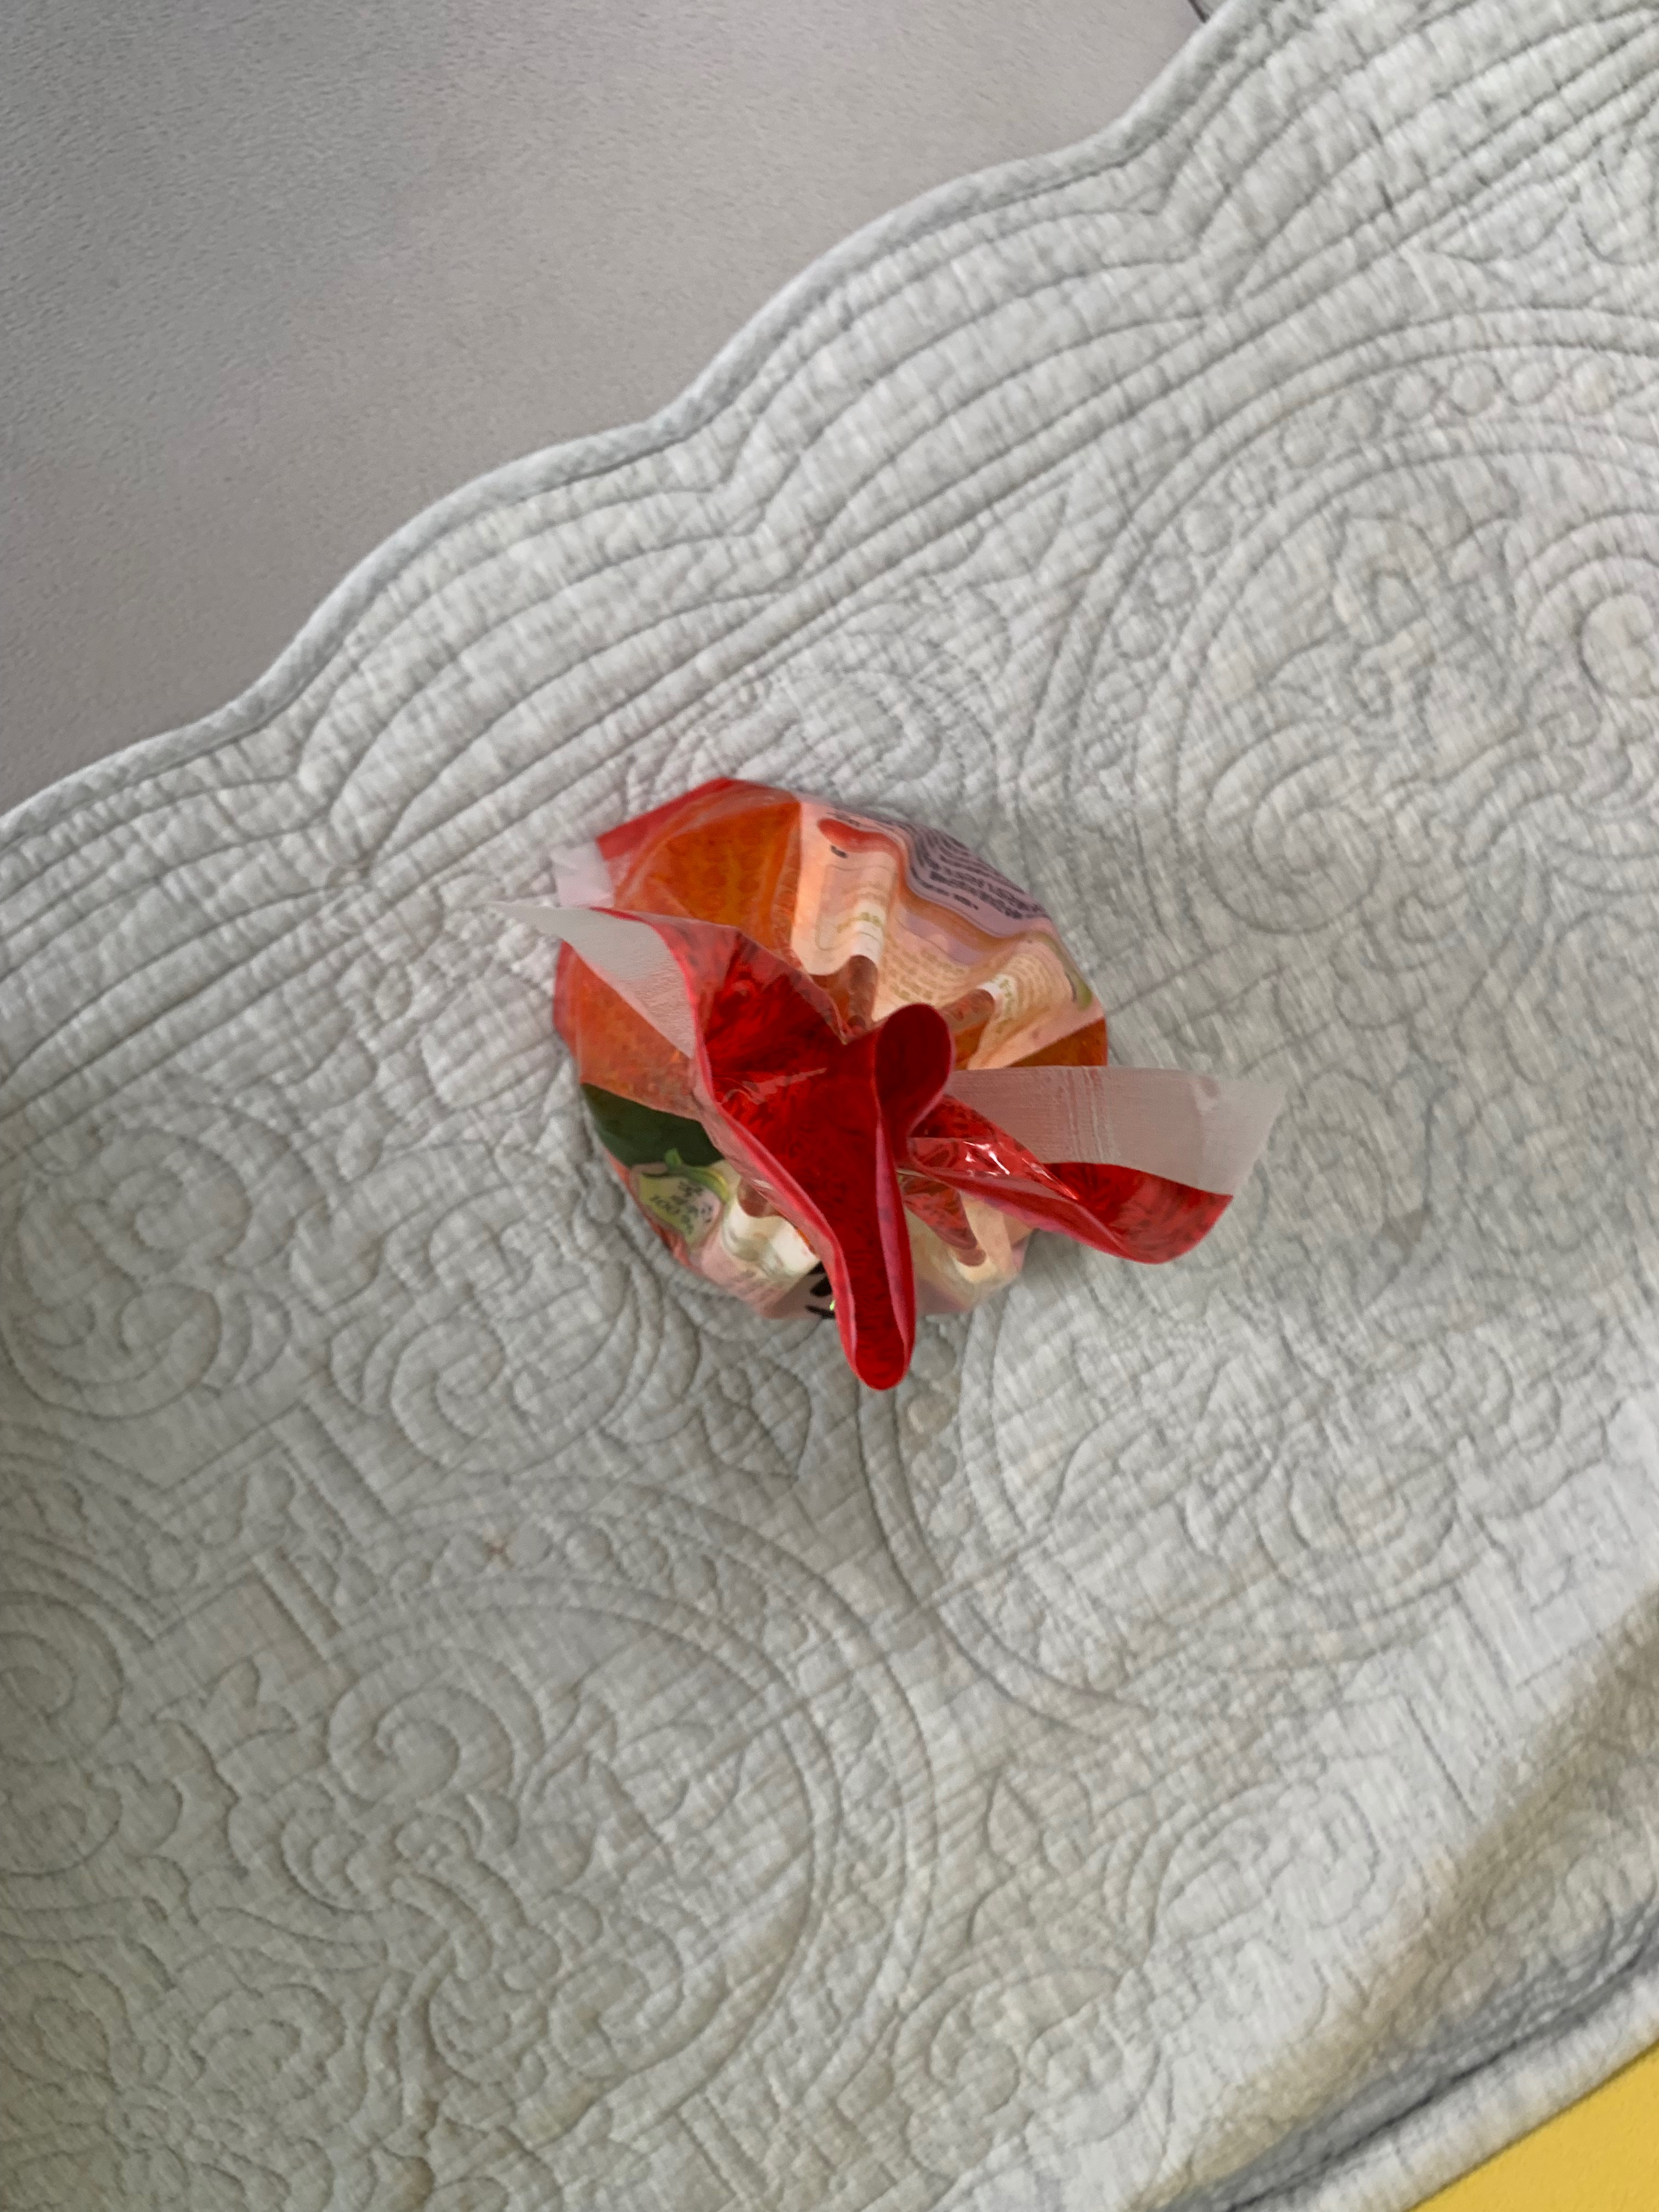kimchi: (552, 777, 1230, 1393)
